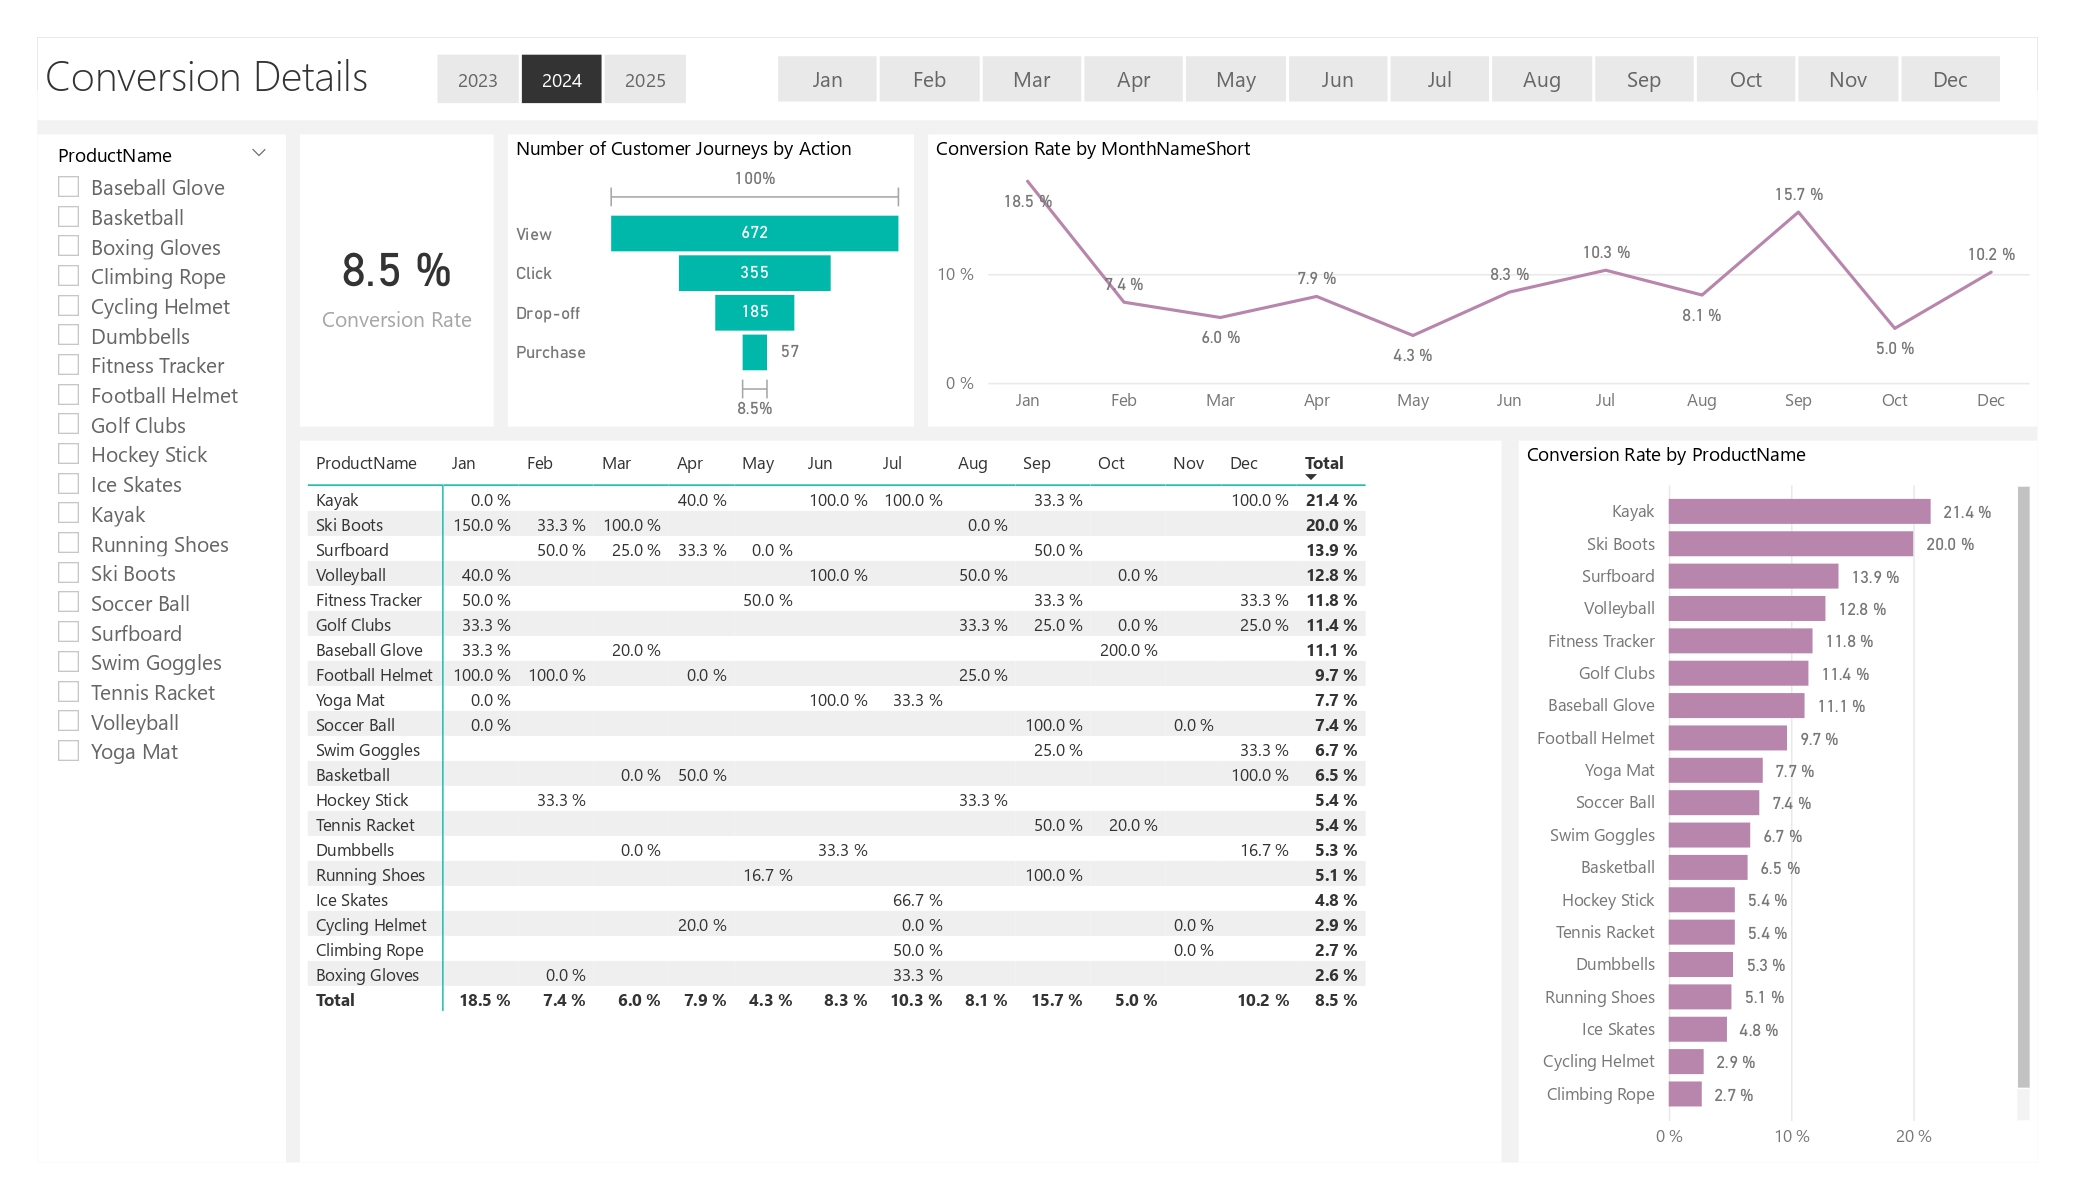

The page's visual inventory and layout, read from the dashboard file:
{"tool":"powerbi","page":{"name":"Conversion Details","canvas":[1280,720],"ordinal":1},"visuals":[{"type":"textbox","box":[0,0,1280,52.6],"z":0},{"type":"slicer","fields":{"Values":["dim_products.ProductName"]},"box":[0,61.9,159.4,658.4],"z":1000},{"type":"card","fields":{"Values":["_Calculations.Conversion Rate"]},"box":[168.5,61.9,123.8,186.7],"z":2000},{"type":"lineChart","fields":{"Y":["_Calculations.Conversion Rate"],"Category":["Calendar.MonthNameShort"]},"box":[570.1,61.9,710.3,186.7],"z":3000},{"type":"clusteredBarChart","fields":{"Category":["dim_products.ProductName"],"Y":["_Calculations.Conversion Rate"]},"box":[948,257.7,332.4,462.6],"z":4000},{"type":"slicer","fields":{"Values":["Calendar.Year"]},"box":[230.2,4.1,208.5,44.4],"z":5000},{"type":"slicer","fields":{"Values":["Calendar.MonthNameShort"]},"box":[448,4.6,832.3,43.7],"z":6000},{"type":"pivotTable","fields":{"Rows":["dim_products.ProductName"],"Values":["_Calculations.Conversion Rate"],"Columns":["Calendar.MonthNameShort"]},"box":[168.5,257.7,768.6,462.6],"z":7000},{"type":"funnel","fields":{"Category":["fact_customer_journey.Action"],"Y":["_Calculations.Number of Customer Journeys"]},"box":[301.4,61.9,259.5,186.7],"z":8000}]}

Visuals, with their boxes on the page's 1280x720 design canvas (x1, y1, x2, y2). These are canvas units, not pixel positions in the 2075x1200 screenshot, which may show the page scaled, cropped or inside an application window:
textbox: box(0, 0, 1280, 53)
slicer - dim_products.ProductName: box(0, 62, 159, 720)
card - _Calculations.Conversion Rate: box(168, 62, 292, 249)
lineChart - _Calculations.Conversion Rate x Calendar.MonthNameShort: box(570, 62, 1280, 249)
clusteredBarChart - dim_products.ProductName x _Calculations.Conversion Rate: box(948, 258, 1280, 720)
slicer - Calendar.Year: box(230, 4, 439, 48)
slicer - Calendar.MonthNameShort: box(448, 5, 1280, 48)
pivotTable - dim_products.ProductName x _Calculations.Conversion Rate: box(168, 258, 937, 720)
funnel - fact_customer_journey.Action x _Calculations.Number of Customer Journeys: box(301, 62, 561, 249)
